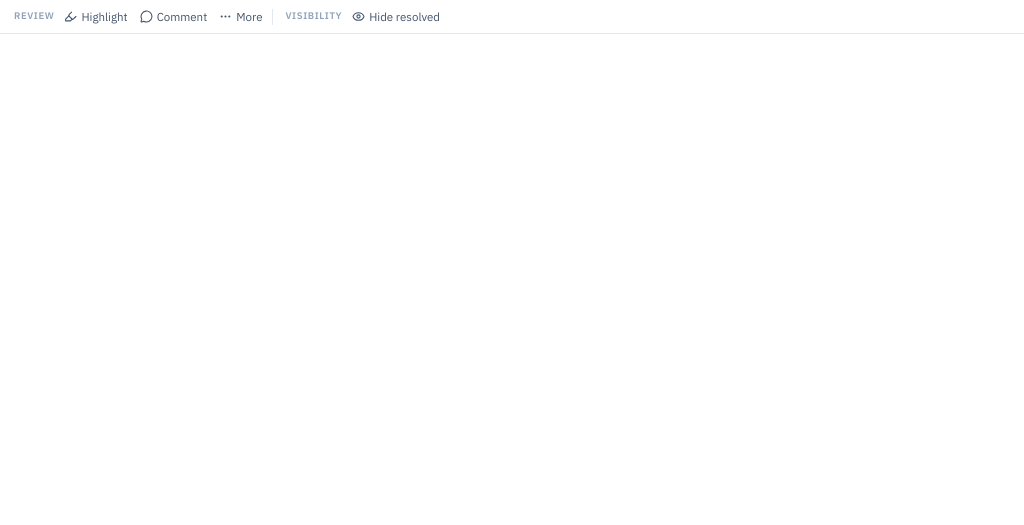
Test: CtxBar annotate mode › keeps the primary annotate surface compact and moves secondary tools under More
Expected: the button "Highlight" is shown, [58,4,134,28]
Expected: the button "Comment" is shown, [134,4,213,28]
Click the button "More".
click(241, 16)  # box [213,4,268,28]
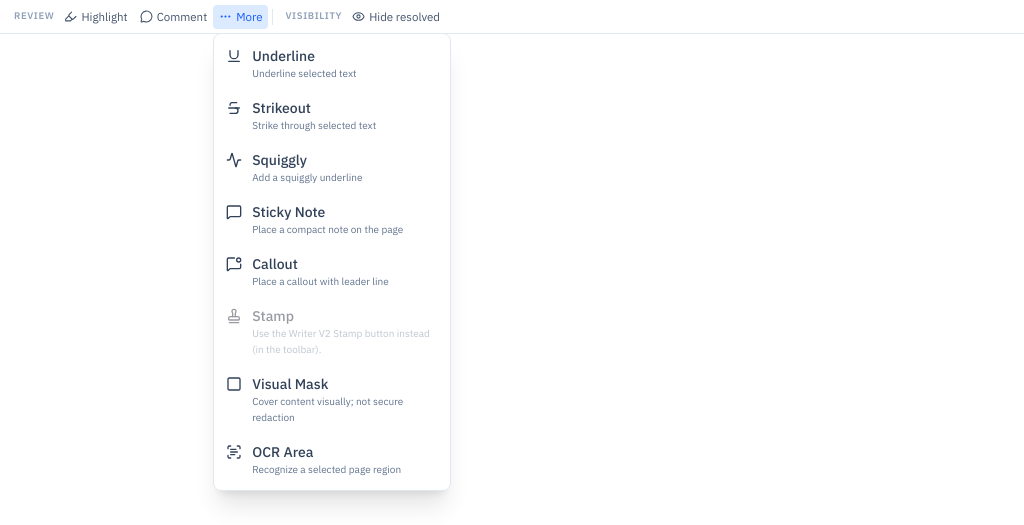
Result: the menu named "More annotation tools" is shown at [213,32,451,490]
Result: the menu item "Underline Underline selected text" is shown at [214,38,450,90]
Result: the menu item "Sticky Note Place a compact note on the page" is shown at [214,194,450,246]
